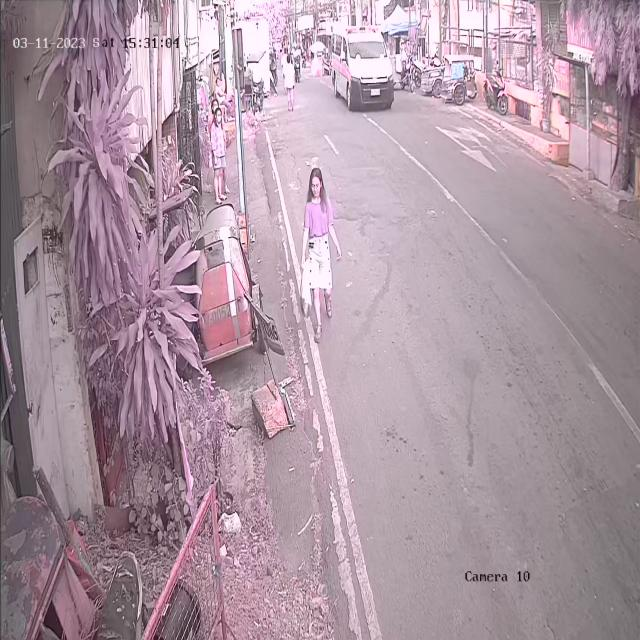human: (300, 169, 341, 344)
trash: (297, 266, 313, 318)
